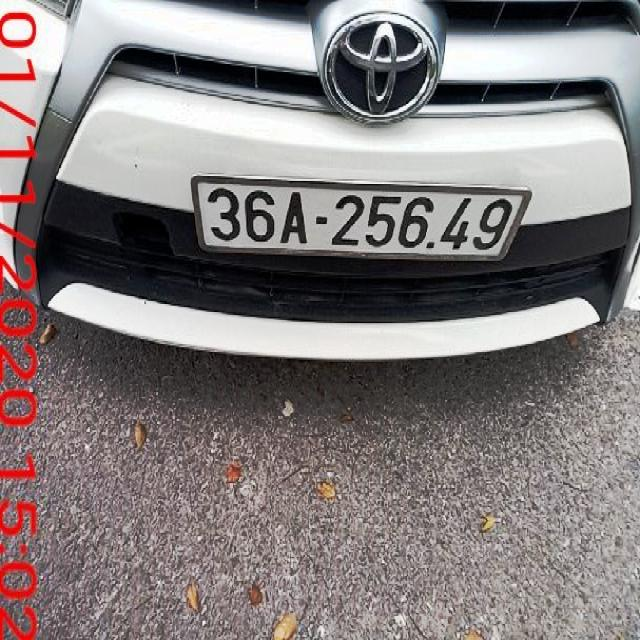license_plate: (194, 178, 528, 257)
